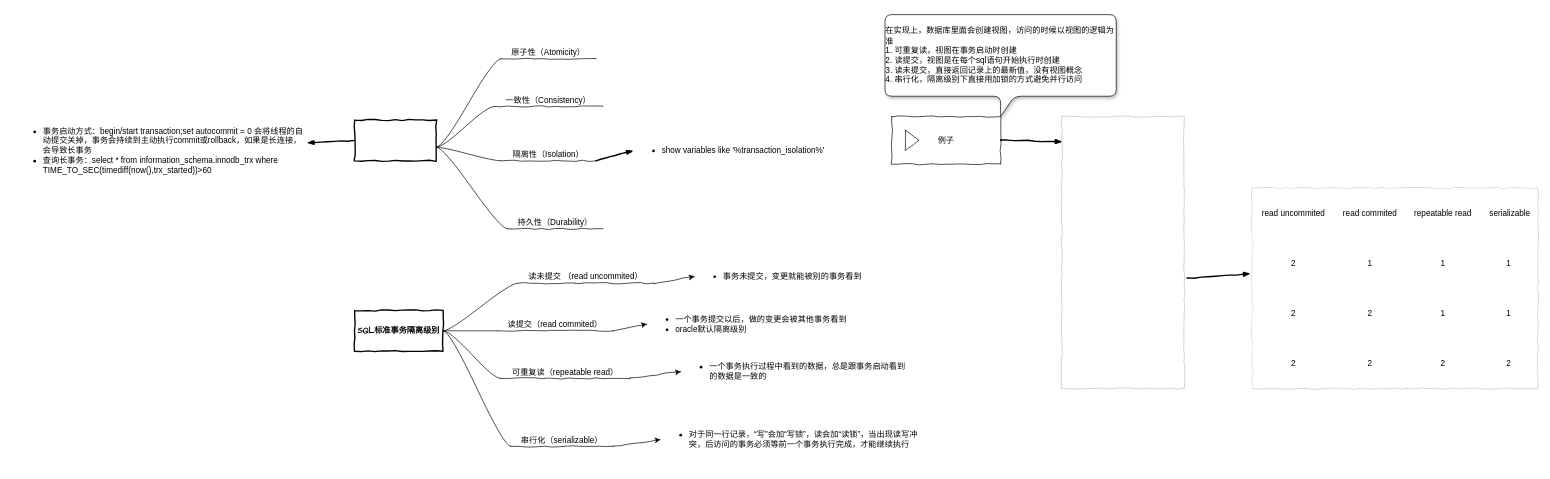
This 1550x479 diagram has some shape labels left out. The shapes that lost their labels are listed below. From the top down, each one's centre as x and y in pixels, then its label:
At pixel 395 140: "事务".
At pixel 1122 252: "事务A 事务B 启动事务 查询得到值1 启动事务 查询得到值1 将1改成2 查询得到值V1 提交事务B 查询得到值V2 提交事务A 查询得到值V3".
